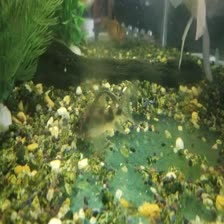Kiros: (61, 73, 146, 141)
